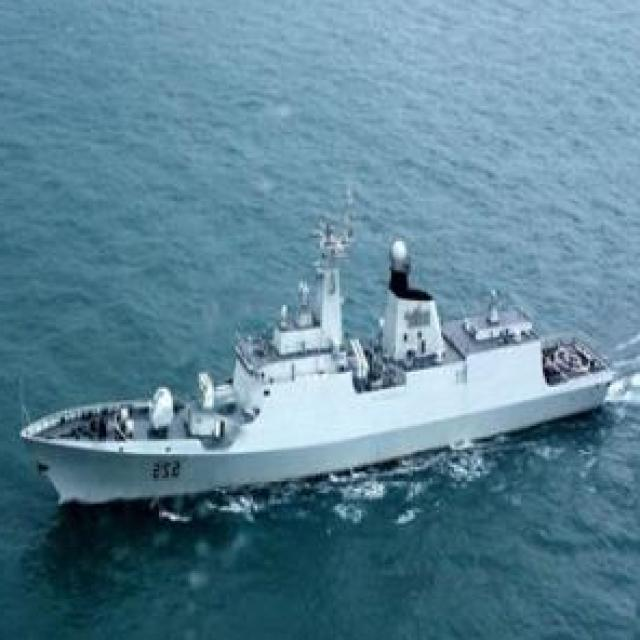navalvessels: (31, 210, 610, 508)
